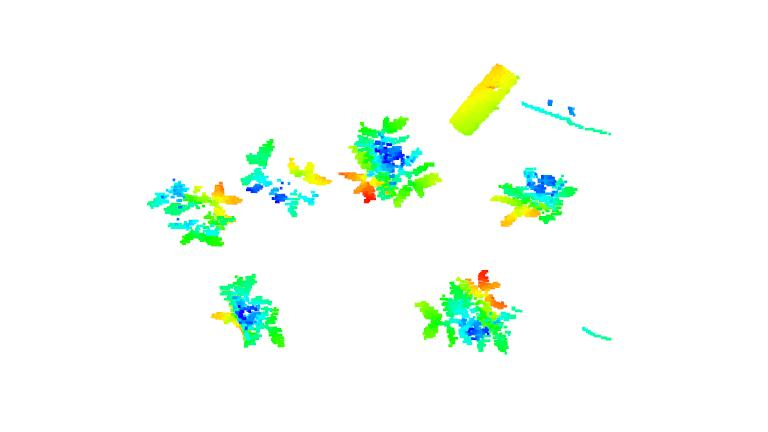chickpea: (412, 267, 518, 356), (347, 115, 440, 208), (236, 139, 333, 219), (147, 174, 243, 252), (210, 272, 286, 354), (492, 161, 574, 230)
